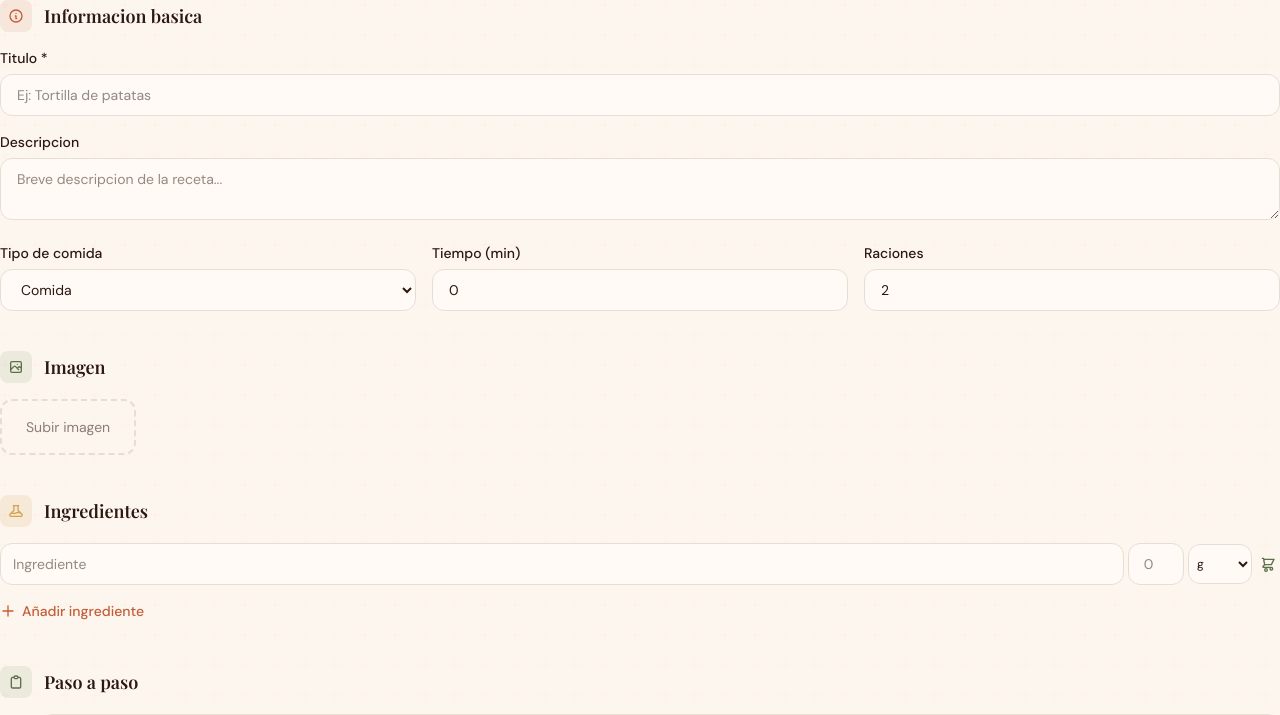
RecipeForm › adds ingredient row when clicking "Añadir ingrediente"
This screenshot has width=1280, height=715.
Click the button "Añadir ingrediente" at (72, 611), box [0,601,144,621]
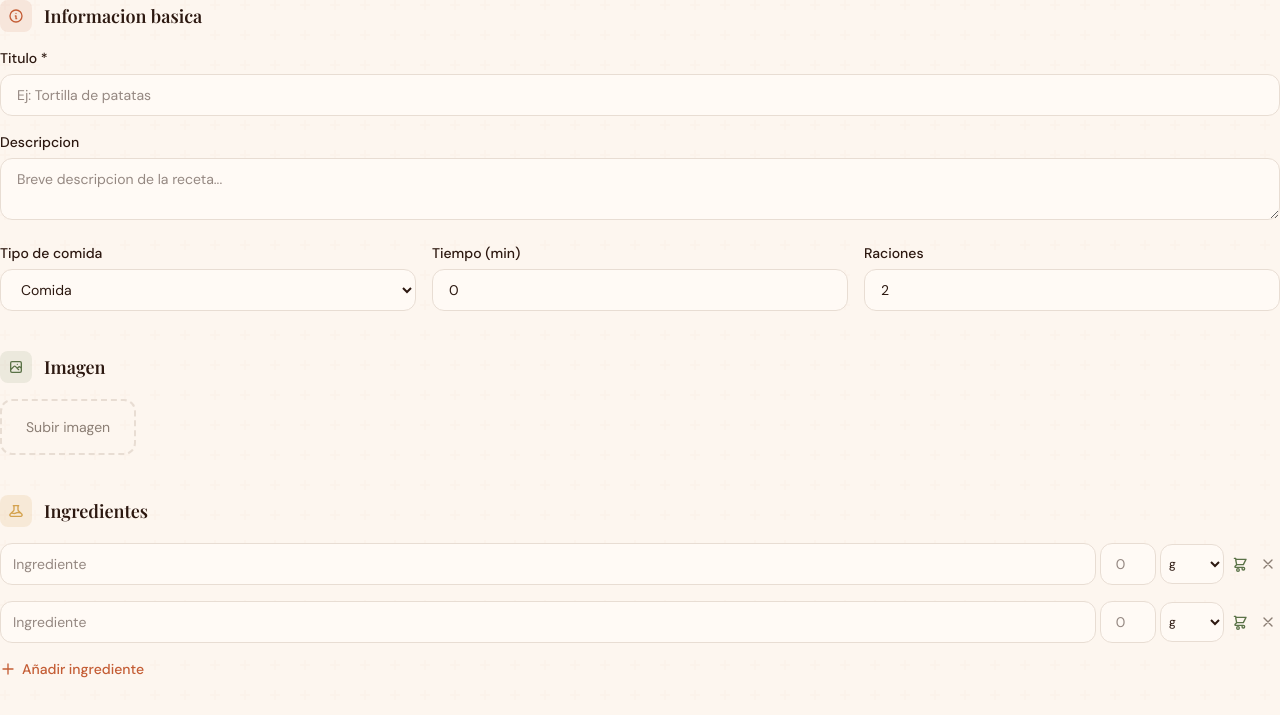
Expected: the number of fields with placeholder "Ingrediente" is 2, [0,543,1096,585]; [0,601,1096,643]
